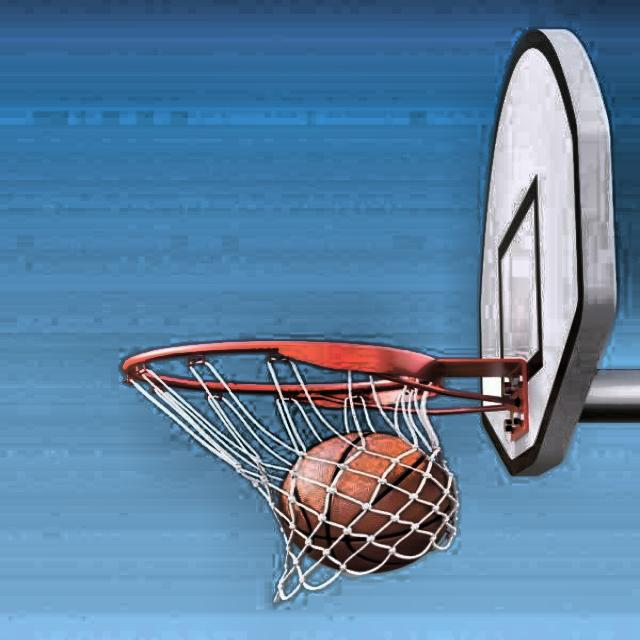rim: (113, 340, 459, 586)
